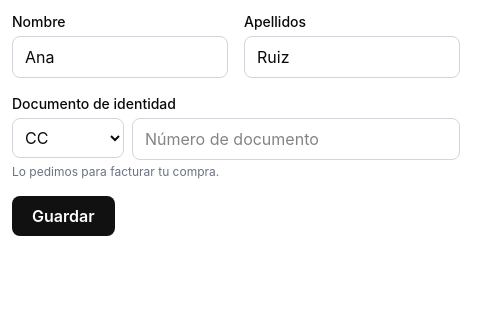
ProfileForm — documento › lo escrito se envía y, una vez guardado, el campo queda bloqueado
The image size is (477, 315).
Type "1.012.345.678" into the field named "documentNumber" at (296, 139), box top-left (132, 118), bottom-right (460, 160)
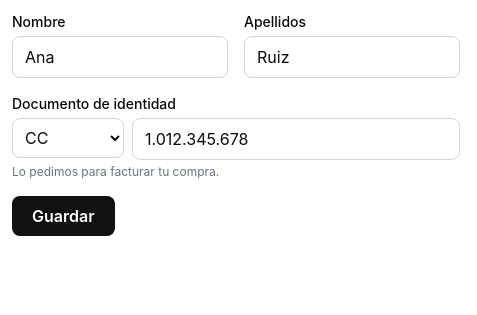
Submit the form
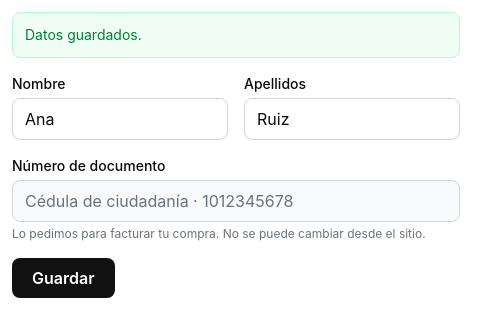
Result: the field labelled "Número de documento" is disabled at top-left (12, 180), bottom-right (460, 222)
